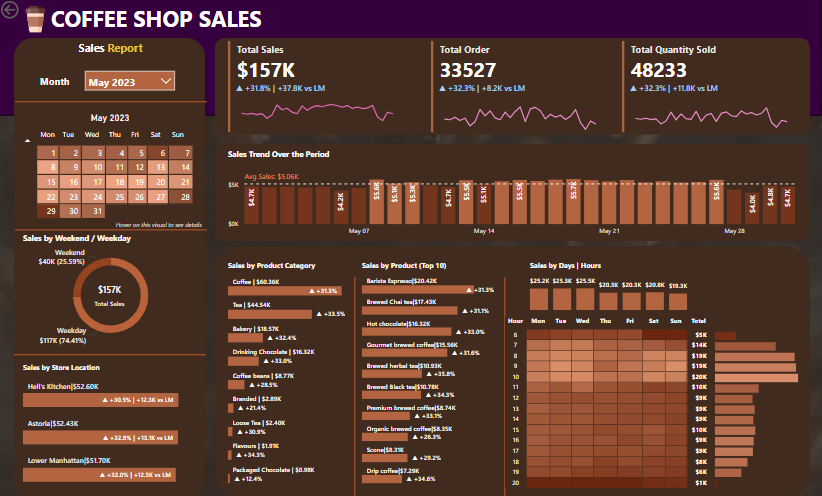

What the dashboard file says about the page in this screenshot:
{"tool":"powerbi","page":{"name":"Page 1","canvas":[1400,850],"ordinal":0},"visuals":[{"type":"shape","box":[0,0,1400,200],"z":0},{"type":"shape","box":[28,68,325,782],"z":1000},{"type":"shape","box":[368.6,68.6,1011.4,164.3],"z":2000},{"type":"textbox","box":[85,5,580,63.3],"z":3000},{"type":"image","box":[21.4,8.6,83.6,55],"z":4000},{"type":"shape","box":[368.8,247.5,1011.2,165],"z":5000},{"type":"slicer","fields":{"Values":["Date Table.Month Year"]},"box":[142.9,118.6,162.9,45.7],"z":6000},{"type":"group","id":"g1","title":"Group 1","box":[385.3,68.6,300.1,165],"z":7000},{"type":"cardVisual","fields":{"Data":["Transactions.Total Sales"]},"box":[385.3,68.6,300,165],"z":7000,"group":"g1"},{"type":"cardVisual","fields":{"Data":["Transactions.Total Order"]},"box":[731,68.6,300,165],"z":7000,"group":"g2"},{"type":"cardVisual","fields":{"Data":["Transactions.Total Quantity Sold"]},"box":[1056.3,68.6,300,165],"z":7000,"group":"g3"},{"type":"group","id":"g2","title":"Group 1","box":[731,68.6,300,165],"z":8000},{"type":"group","id":"g3","title":"Group 1","box":[1056.3,68.6,300,165],"z":9000},{"type":"lineChart","fields":{"Category":["Date Table.Date.Variation.Date Hierarchy.Year","Date Table.Date.Variation.Date Hierarchy.Quarter","Date Table.Date.Variation.Date Hierarchy.Month","Date Table.Date.Variation.Date Hierarchy.Day"],"Y":["Transactions.Total Sales"]},"box":[399,145.7,286.4,85.5],"z":9000,"group":"g1"},{"type":"lineChart","fields":{"Category":["Date Table.Date.Variation.Date Hierarchy.Year","Date Table.Date.Variation.Date Hierarchy.Quarter","Date Table.Date.Variation.Date Hierarchy.Month","Date Table.Date.Variation.Date Hierarchy.Day"],"Y":["Transactions.Total Order"]},"box":[744.7,145.7,286.4,85.5],"z":9000,"group":"g2"},{"type":"lineChart","fields":{"Category":["Date Table.Date.Variation.Date Hierarchy.Year","Date Table.Date.Variation.Date Hierarchy.Quarter","Date Table.Date.Variation.Date Hierarchy.Month","Date Table.Date.Variation.Date Hierarchy.Day"],"Y":["Transactions.Total Quantity Sold"]},"box":[1070,145.7,286.4,85.5],"z":9000,"group":"g3"},{"type":"pivotTable","fields":{"Rows":["Date Table.Week Number"],"Columns":["Date Table.Day Name"],"Values":["Sum(Date Table.Day Number)"]},"box":[36.4,216.4,305,190],"z":10000},{"type":"card","fields":{"Values":["Min(Date Table.Month Year)"]},"box":[140,188.9,102.2,30],"z":11000},{"type":"card","fields":{"Values":["Transactions.Foot Note"]},"box":[189.2,374.2,169.2,25.8],"z":12000},{"type":"shape","box":[28.3,382.5,325.8,23.3],"z":13000},{"type":"donutChart","title":"Sales by Weekend / Weekday","fields":{"Category":["Date Table.Weekend / Weekday"],"Y":["Transactions.Total Sales"]},"box":[37.5,400,308.3,195],"z":14000},{"type":"card","fields":{"Values":["Transactions.Total Sales"]},"box":[139.3,475,100,61.4],"z":15000},{"type":"shape","box":[26.4,595,325.7,22.9],"z":16000},{"type":"clusteredBarChart","title":"Sales by Store Location","fields":{"Category":["Transactions.store_location"],"Y":["Transactions.Placeholder","Transactions.Total Sales"]},"box":[38,618,303,212],"z":17000},{"type":"columnChart","title":"Sales Trend Over the Period","fields":{"Category":["Transactions.transaction_date"],"Y":["Transactions.Total Sales"]},"box":[385.6,256.7,981.1,156.7],"z":18000},{"type":"shape","box":[368.3,421.7,1011.7,428.3],"z":19000},{"type":"clusteredBarChart","title":"Sales by Product Category","fields":{"Category":["Transactions.product_category"],"Y":["Transactions.Placeholder","Transactions.Total Sales"]},"box":[386,445,235,385],"z":20000},{"type":"shape","box":[591,475,30,375],"z":21000},{"type":"clusteredBarChart","title":"Sales by Product (Top 10)","fields":{"Y":["Transactions.Placeholder","Transactions.Total Sales"],"Category":["Transactions.product_type"]},"box":[613,445,235,385],"z":22000},{"type":"shape","box":[846,475,30,375],"z":23000},{"type":"pivotTable","fields":{"Rows":["Transactions.Hour"],"Columns":["Date Table.Day Name"],"Values":["Transactions.Total Sales"]},"box":[857,536,370,308],"z":24000},{"type":"actionButton","box":[0,0,100,40],"z":25000},{"type":"columnChart","title":"Sales by Days | Hours","fields":{"Category":["Date Table.Day Name"],"Y":["Transactions.Total Sales"]},"box":[899,445,278,91],"z":26000},{"type":"clusteredBarChart","fields":{"Category":["Transactions.Hour"],"Y":["Transactions.Total Sales"]},"box":[1213,554,154,283],"z":27000},{"type":"shape","box":[28.6,165.7,325.7,22.9],"z":27001},{"type":"textbox","box":[56,125,81,31],"z":27002},{"type":"textbox","box":[102,66,179,35],"z":27003}]}

Visuals, with their boxes in screenshot pixels (x1, y1, x2, y2), scaled from the page's 1400x850 canvas onto the 822x496 screenshot:
shape: detection(0, 0, 821, 117)
shape: detection(16, 40, 207, 495)
shape: detection(216, 40, 810, 136)
textbox: detection(50, 3, 390, 40)
image: detection(13, 5, 62, 37)
shape: detection(217, 144, 810, 241)
slicer - Date Table.Month Year: detection(84, 69, 180, 96)
"Group 1" group: detection(226, 40, 402, 136)
cardVisual - Transactions.Total Sales: detection(226, 40, 402, 136)
cardVisual - Transactions.Total Order: detection(429, 40, 605, 136)
cardVisual - Transactions.Total Quantity Sold: detection(620, 40, 796, 136)
"Group 1" group: detection(429, 40, 605, 136)
"Group 1" group: detection(620, 40, 796, 136)
lineChart - Date Table.Date.Variation.Date Hierarchy.Year x Date Table.Date.Variation.Date Hierarchy.Quarter: detection(234, 85, 402, 135)
lineChart - Date Table.Date.Variation.Date Hierarchy.Year x Date Table.Date.Variation.Date Hierarchy.Quarter: detection(437, 85, 605, 135)
lineChart - Date Table.Date.Variation.Date Hierarchy.Year x Date Table.Date.Variation.Date Hierarchy.Quarter: detection(628, 85, 796, 135)
pivotTable - Date Table.Week Number x Date Table.Day Name: detection(21, 126, 200, 237)
card - Min(Date Table.Month Year): detection(82, 110, 142, 128)
card - Transactions.Foot Note: detection(111, 218, 210, 233)
shape: detection(17, 223, 208, 237)
"Sales by Weekend / Weekday" donutChart: detection(22, 233, 203, 347)
card - Transactions.Total Sales: detection(82, 277, 141, 313)
shape: detection(16, 347, 207, 361)
"Sales by Store Location" clusteredBarChart: detection(22, 361, 200, 484)
"Sales Trend Over the Period" columnChart: detection(226, 150, 802, 241)
shape: detection(216, 246, 810, 495)
"Sales by Product Category" clusteredBarChart: detection(227, 260, 365, 484)
shape: detection(347, 277, 365, 495)
"Sales by Product (Top 10)" clusteredBarChart: detection(360, 260, 498, 484)
shape: detection(497, 277, 514, 495)
pivotTable - Transactions.Hour x Date Table.Day Name: detection(503, 313, 720, 492)
actionButton: detection(0, 0, 59, 23)
"Sales by Days | Hours" columnChart: detection(528, 260, 691, 313)
clusteredBarChart - Transactions.Hour x Transactions.Total Sales: detection(712, 323, 803, 488)
shape: detection(17, 97, 208, 110)
textbox: detection(33, 73, 80, 91)
textbox: detection(60, 39, 165, 59)
